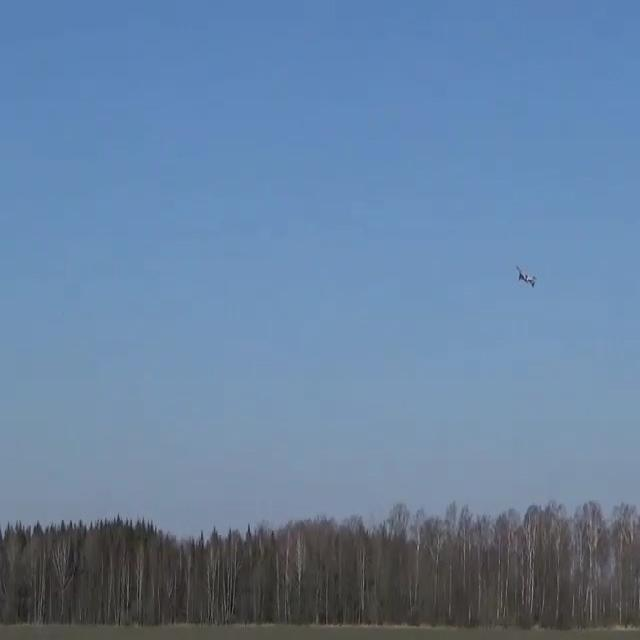drone: (515, 265, 536, 287)
